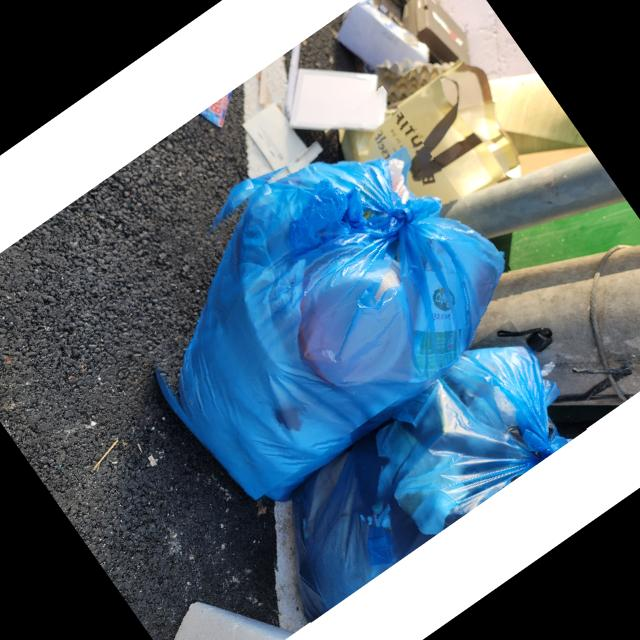other_trashbag: (173, 148, 502, 506), (290, 344, 567, 620)
